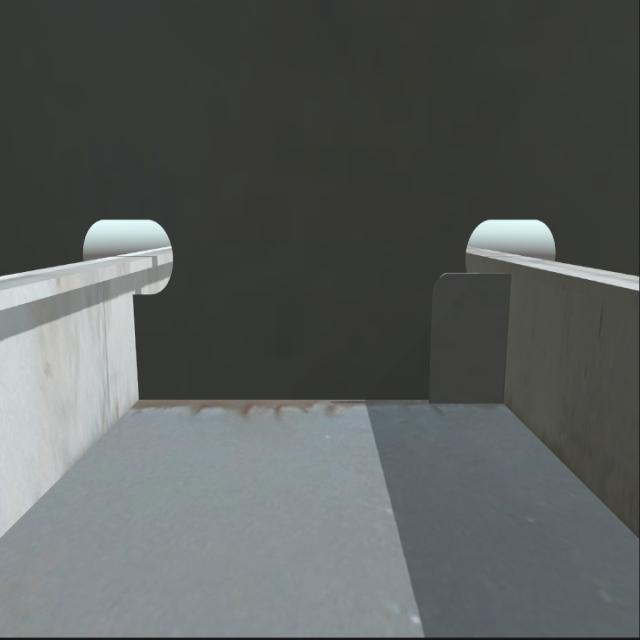fillet_yong_jeop_jang: (137, 387, 506, 410)
longi_yong_jeop_jang: (492, 279, 519, 404), (122, 289, 144, 405)
plate_CP05: (422, 269, 512, 411)
